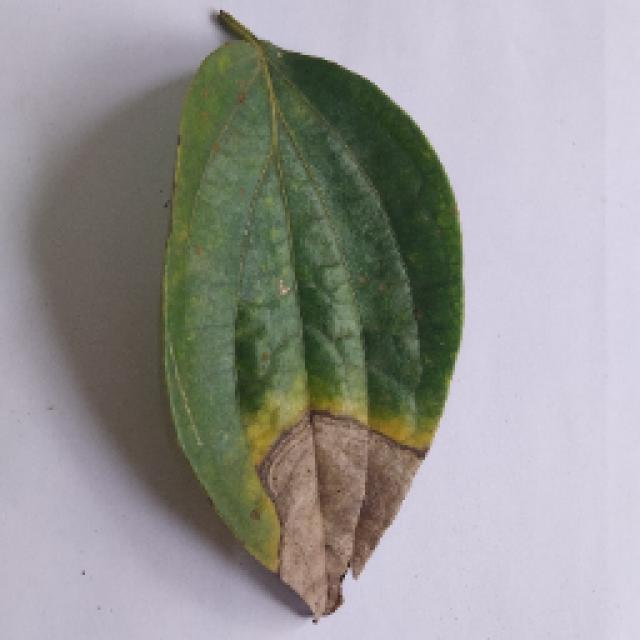footrot: (157, 15, 465, 620)
